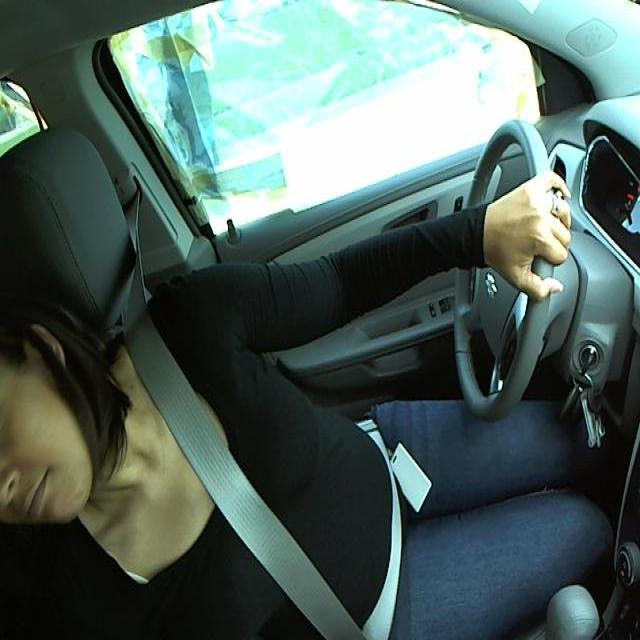seatbelt: (111, 346, 403, 638)
